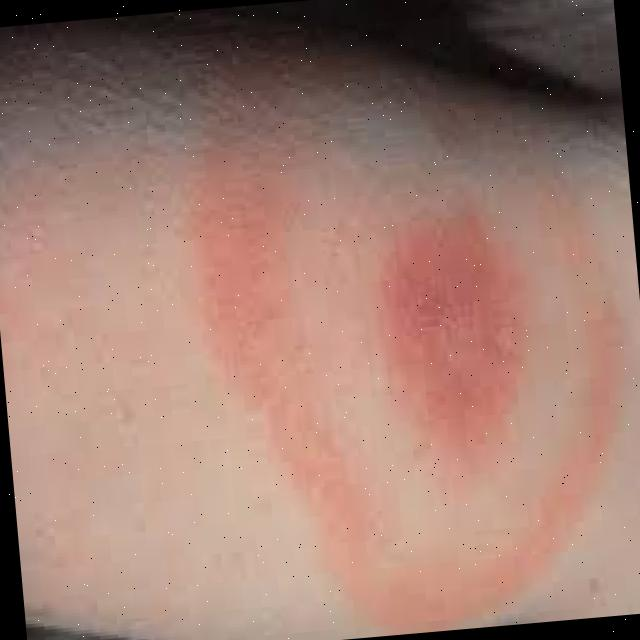kene: (182, 94, 636, 627)
